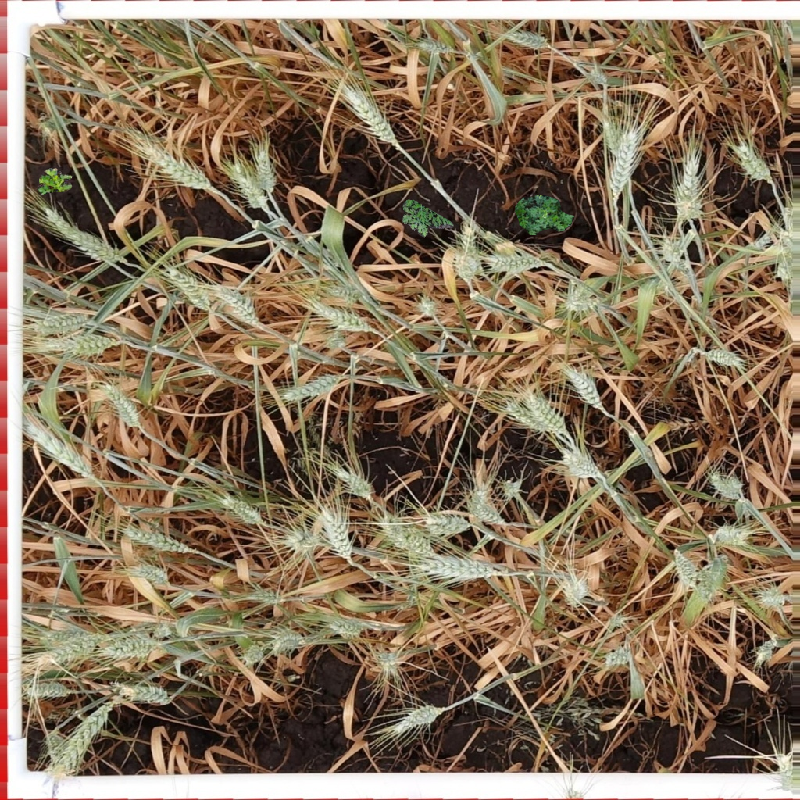spikelet: (31, 198, 131, 270), (125, 129, 217, 198), (17, 414, 103, 486), (330, 73, 406, 151), (404, 545, 504, 590), (56, 698, 116, 770), (24, 323, 126, 364), (666, 144, 712, 227), (601, 118, 647, 200), (114, 515, 199, 558), (93, 375, 152, 435), (371, 506, 437, 559), (554, 355, 611, 416), (271, 365, 348, 410), (509, 385, 573, 439), (220, 153, 273, 216), (206, 277, 267, 331), (311, 499, 362, 563), (158, 257, 215, 314), (301, 294, 375, 336), (34, 624, 106, 667), (94, 622, 166, 663), (24, 304, 101, 339), (727, 135, 777, 188), (108, 672, 179, 709), (553, 437, 608, 484), (212, 486, 269, 531), (324, 456, 380, 501), (387, 698, 448, 739), (461, 479, 509, 531), (692, 549, 734, 608), (446, 223, 486, 283), (555, 272, 606, 319), (482, 242, 546, 279), (319, 272, 383, 309), (550, 562, 596, 612), (419, 501, 476, 539), (696, 339, 752, 377), (249, 137, 282, 201), (665, 545, 705, 595), (706, 516, 759, 553), (703, 463, 749, 504), (769, 740, 800, 800), (320, 607, 372, 642), (366, 641, 409, 683), (654, 232, 695, 275), (263, 619, 307, 659), (279, 519, 323, 559), (595, 638, 641, 676), (497, 22, 553, 53), (19, 672, 75, 703), (407, 28, 456, 63), (124, 556, 175, 589), (748, 631, 789, 670), (240, 579, 291, 610), (751, 578, 792, 616), (594, 111, 627, 158), (39, 724, 70, 768), (235, 635, 269, 668), (496, 469, 526, 503), (412, 291, 441, 319)
weed: (393, 196, 456, 248), (515, 195, 574, 235), (34, 164, 75, 197)
